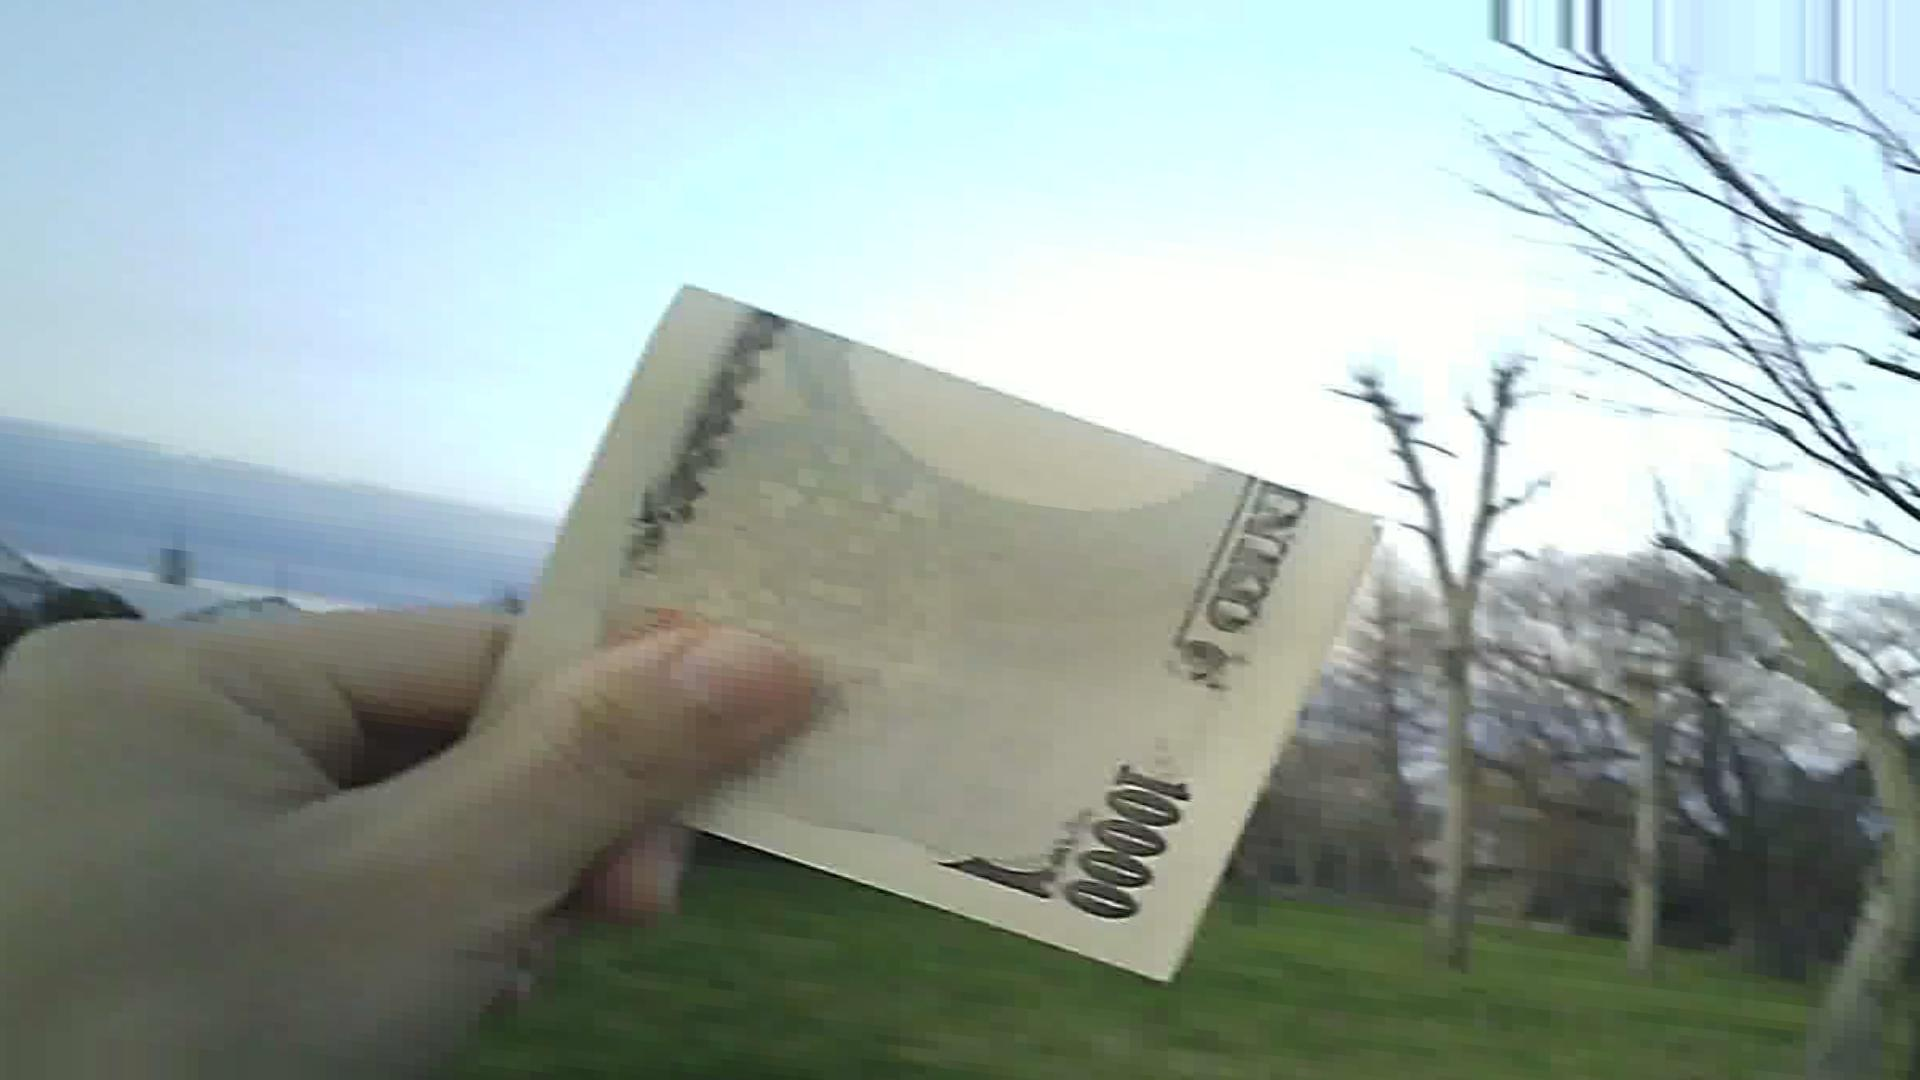10,000 Yen: (473, 276, 1352, 975)
